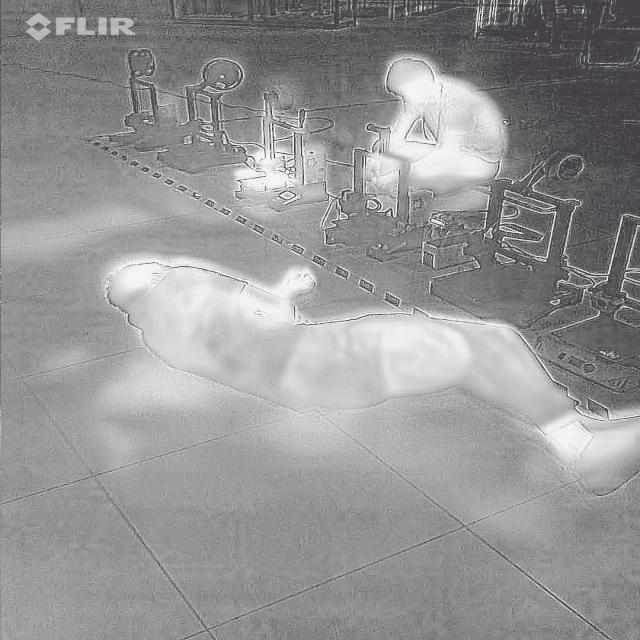Victim: (95, 251, 638, 500), (346, 42, 532, 216)
